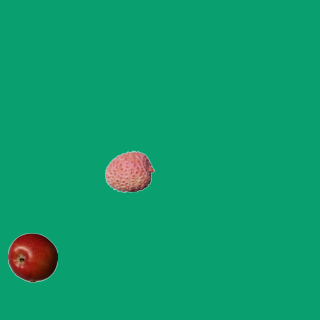Apple Braeburn: (7, 232, 57, 282)
Lychee: (104, 146, 154, 196)
